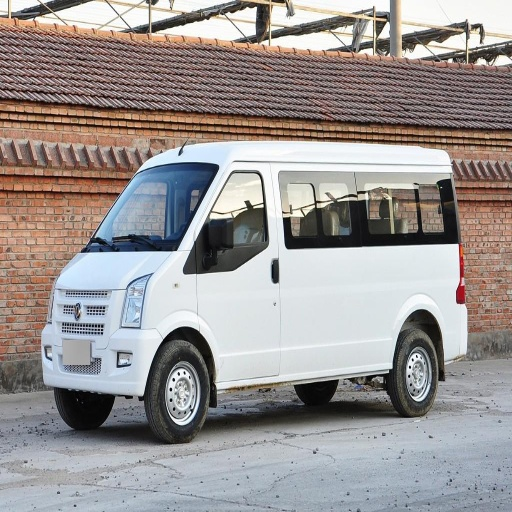front_bumper: (43, 295, 126, 391)
front_glass: (85, 164, 219, 250)
front_left_door: (199, 176, 284, 379)
tailgate: (61, 287, 118, 335)
trunk: (302, 249, 461, 367)
